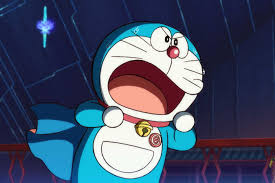doraemon: (68, 20, 204, 183)
